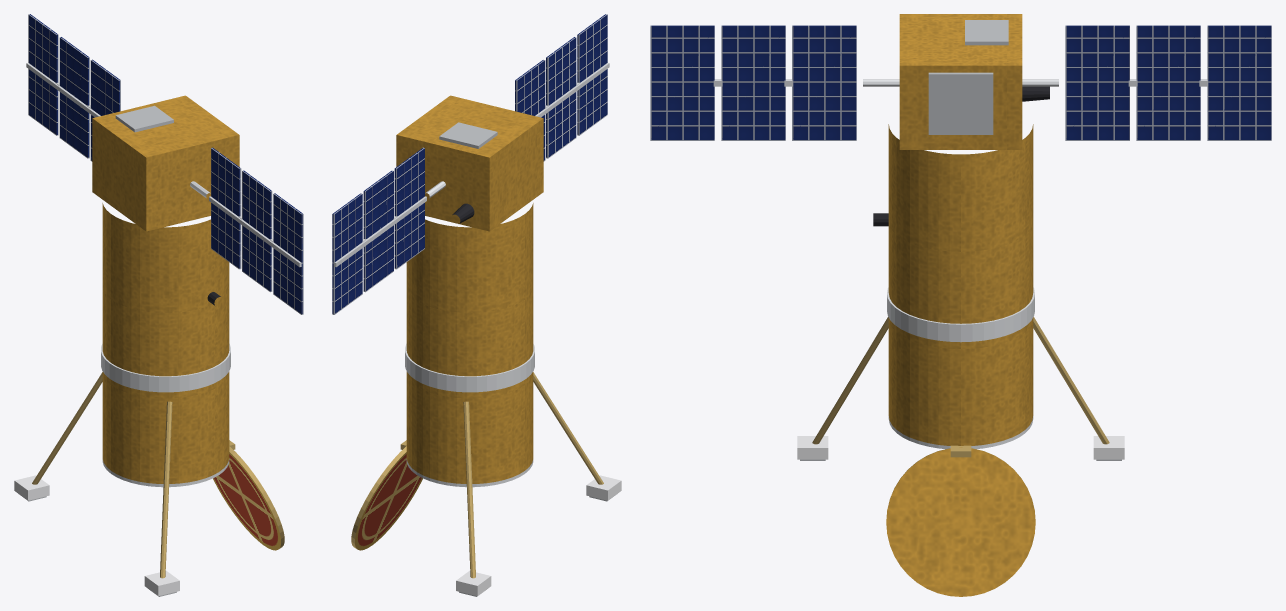
File: eros-c3.glb
3 views of the same model, side by side, from view 1: azimuth 30°, elevation 25°; view 2: azimuth 150°, elevation 25°; view 3: azimuth 270°, elevation 25° (orthographic). The views are drawn at different scales.
Visible parts, largest first — view 1: EROS-C3; view 2: EROS-C3; view 3: EROS-C3.
Part boxes in pixels (box(x1,y1,x2,y2)): EROS-C3: box(14, 14, 303, 596); EROS-C3: box(332, 14, 621, 596); EROS-C3: box(650, 14, 1271, 596).
Size of the model in its own units: 1.84 by 4.42 by 4.82.
9 materials, 3 textured.
